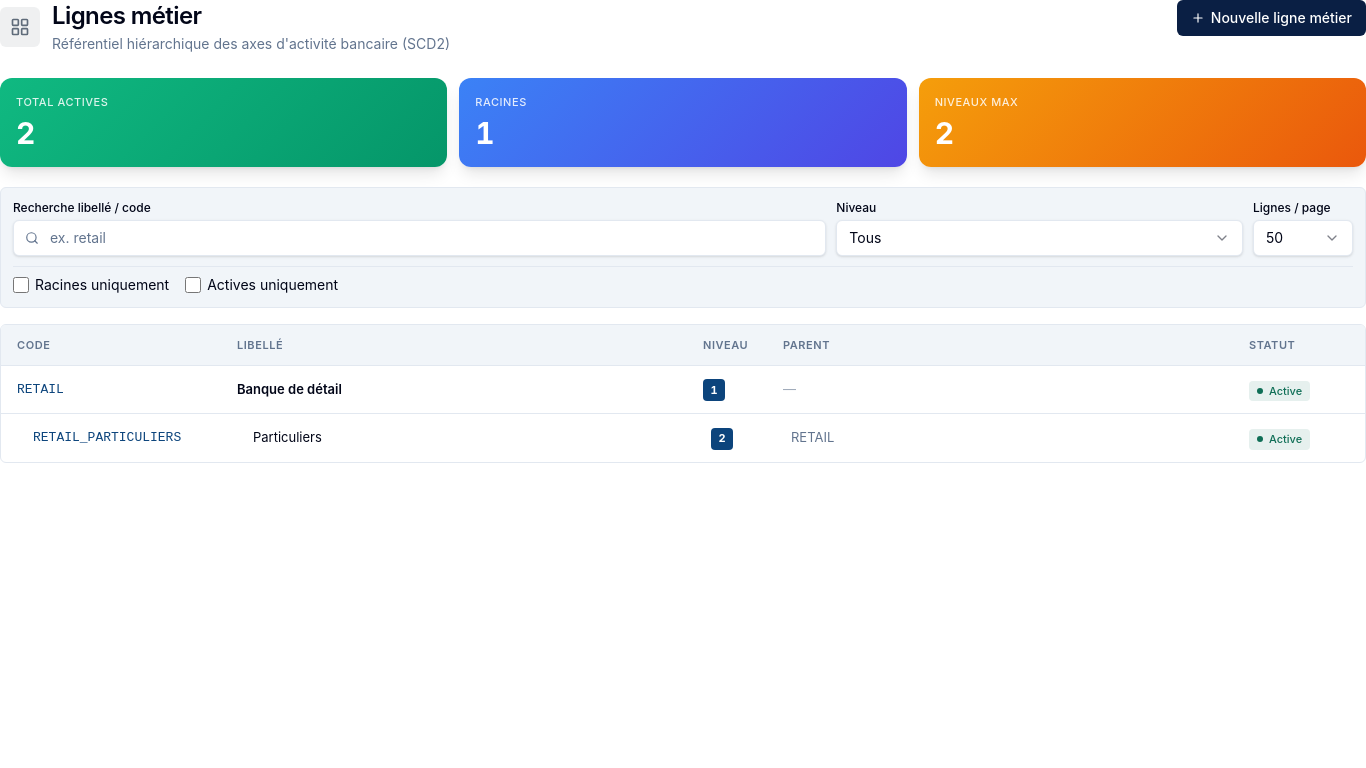
Test: LignesMetierPage › drawer admin : boutons Modifier + Désactiver visibles
What coordinates should you click on to do the following:
click the text "Banque de détail"
I would click on:
 (289, 389)
Its box is [237,381,342,397].
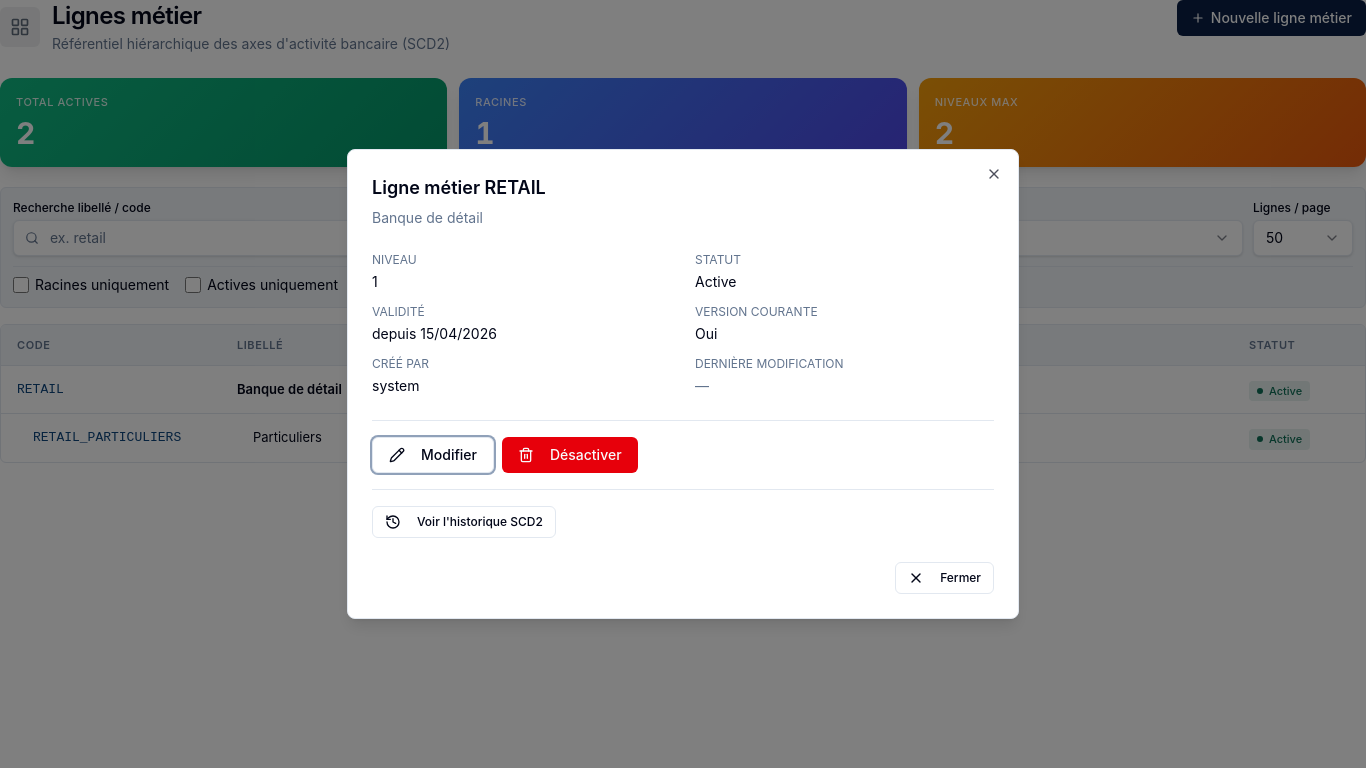
Result: the button "Modifier" is shown at [372,437,494,473]
Result: the button "Désactiver" is shown at [502,437,638,473]
